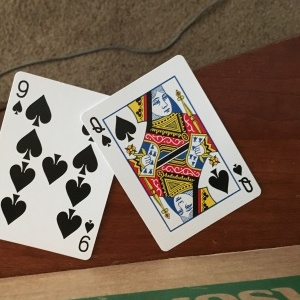card: (91, 53, 261, 247)
